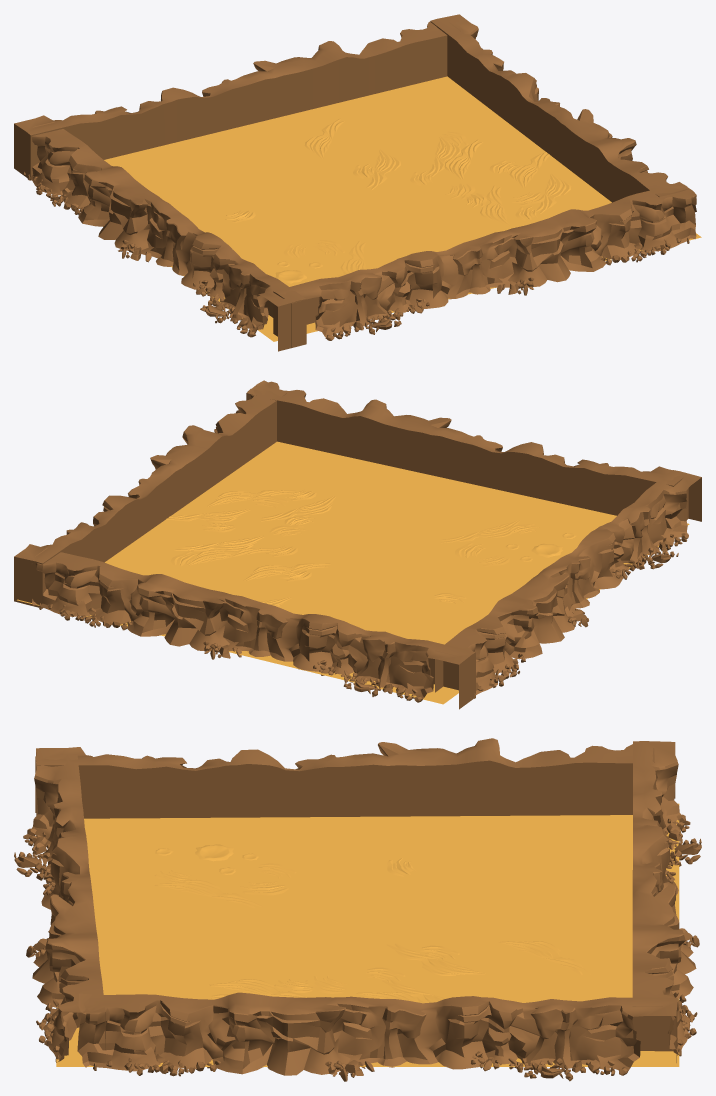
File: Playable_Area.fbx
3 renders of one model, top to bottom at view 1: azimuth 30°, elevation 25°; view 2: azimuth 150°, elevation 25°; view 3: azimuth 270°, elevation 25°, orthographic. The views are drawn at different scales.
Parts seen in each view (by area): view 1: GroundPlane, Cliff__2_, Cliff, Cliff__1_, Cliff__3_, Dunes02__1_, Dunes02__6_, Dunes02__7_, Dunes02__5_, Dunes02__4_, Dunes02__2_, Dunes02__3_; view 2: GroundPlane, Cliff, Cliff__2_, Cliff__1_, Cliff__3_, Dunes02__5_, Dunes02__6_, Dunes02__1_, Dunes02__4_, Dunes02__2_, Dunes02, Dunes02__3_; view 3: GroundPlane, Cliff__3_, Cliff__1_, Cliff__2_, Cliff, Dunes02__6_, Dunes02__7_, Dunes02, Dunes02__1_.
Part boxes in pixels (bbox=[...]): GroundPlane: bbox=[104, 76, 701, 341]; Cliff__2_: bbox=[273, 182, 696, 347]; Cliff: bbox=[14, 21, 460, 180]; Cliff__1_: bbox=[24, 121, 306, 351]; Cliff__3_: bbox=[430, 14, 688, 202]; Dunes02__1_: bbox=[480, 185, 509, 225]; Dunes02__6_: bbox=[366, 149, 400, 189]; Dunes02__7_: bbox=[304, 119, 344, 158]; Dunes02__5_: bbox=[444, 139, 482, 179]; Dunes02__4_: bbox=[535, 173, 571, 213]; Dunes02__2_: bbox=[427, 136, 461, 176]; Dunes02__3_: bbox=[509, 152, 550, 187]; GroundPlane: bbox=[17, 441, 689, 704]; Cliff: bbox=[31, 548, 475, 709]; Cliff__2_: bbox=[246, 380, 688, 519]; Cliff__1_: bbox=[435, 470, 701, 698]; Cliff__3_: bbox=[14, 386, 286, 608]; Dunes02__5_: bbox=[174, 536, 264, 551]; Dunes02__6_: bbox=[243, 563, 330, 581]; Dunes02__1_: bbox=[260, 496, 335, 521]; Dunes02__4_: bbox=[207, 490, 295, 506]; Dunes02__2_: bbox=[187, 548, 273, 565]; Dunes02: bbox=[441, 520, 519, 543]; Dunes02__3_: bbox=[166, 509, 250, 522]; GroundPlane: bbox=[56, 803, 679, 1066]; Cliff__3_: bbox=[77, 992, 677, 1081]; Cliff__1_: bbox=[36, 738, 654, 818]; Cliff__2_: bbox=[14, 754, 105, 1062]; Cliff: bbox=[632, 741, 701, 1056]; Dunes02__6_: bbox=[386, 943, 485, 975]; Dunes02__7_: bbox=[499, 941, 590, 975]; Dunes02: bbox=[154, 879, 262, 908]; Dunes02__1_: bbox=[209, 979, 306, 997].
Size of the model in its own units: 11617 by 1190 by 11595.
